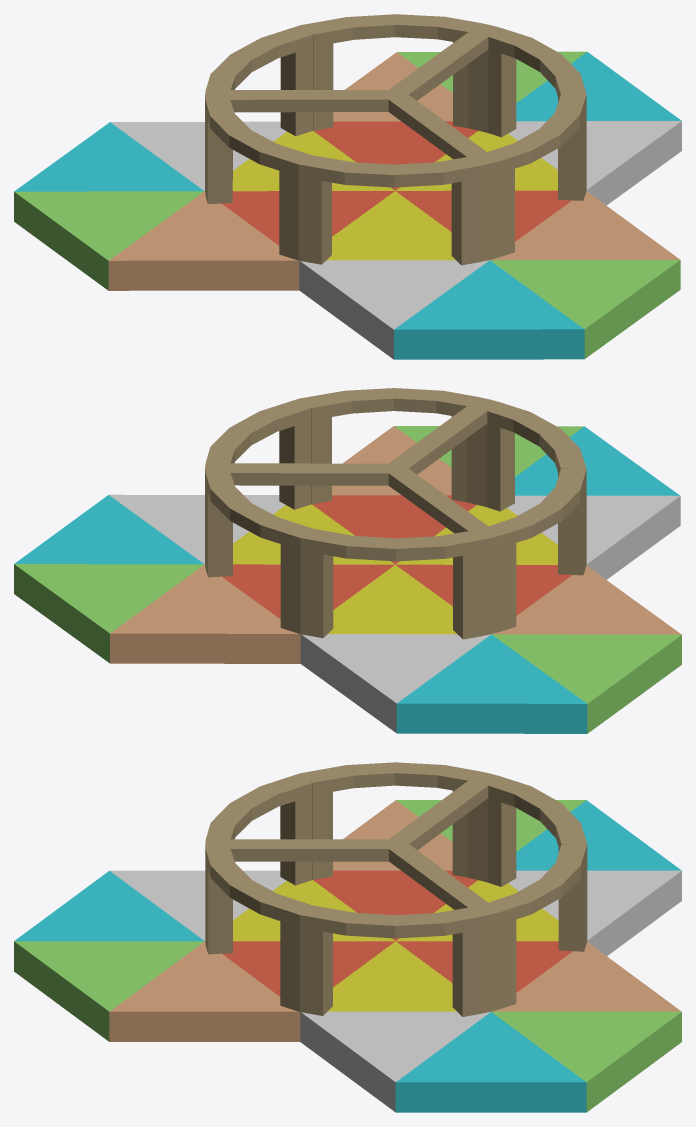
File: tile_temple_3tilesMerged.fbx
The picture shows the model from 3 angles, top to bottom: view 1: azimuth 30°, elevation 25°; view 2: azimuth 150°, elevation 25°; view 3: azimuth 270°, elevation 25°; orthographic projection.
Parts seen in each view (by area): view 1: temple; view 2: temple; view 3: temple.
Boxes of the visible parts, x1,y1,x2,y2 form: temple: (14,14,681,359); temple: (14,388,681,733); temple: (14,762,681,1112).
Size of the model in its own units: 4000 by 841 by 4000.
